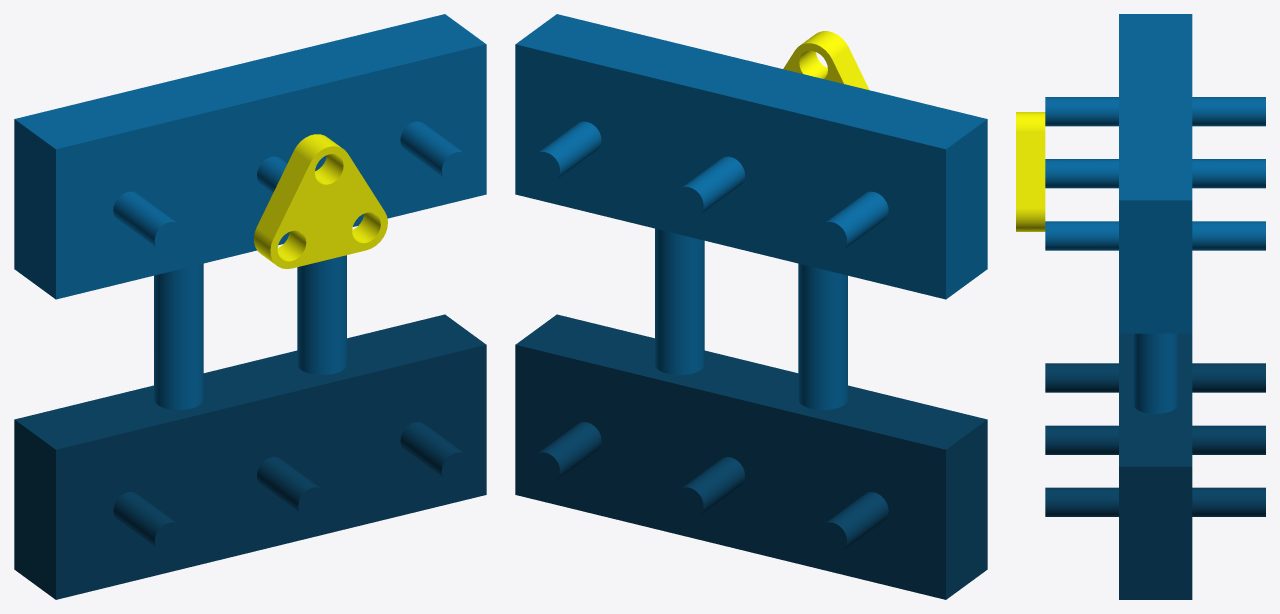
File: spring-blocks v4.glb
The picture shows the model from 3 angles, left to right: view 1: azimuth 30°, elevation 25°; view 2: azimuth 150°, elevation 25°; view 3: azimuth 270°, elevation 25°; orthographic projection. The views are drawn at different scales.
Visible parts, largest first — view 1: Body12, Body11, Body16; view 2: Body12, Body11, Body16; view 3: Body12, Body11, Body16.
Part boxes in pixels (x1=…): Body12: x1=14, y1=14, x2=486, y2=409; Body11: x1=14, y1=314, x2=486, y2=599; Body16: x1=254, y1=134, x2=387, y2=268; Body12: x1=515, y1=14, x2=987, y2=409; Body11: x1=515, y1=314, x2=987, y2=599; Body16: x1=783, y1=31, x2=869, y2=90; Body12: x1=1045, y1=14, x2=1265, y2=413; Body11: x1=1045, y1=333, x2=1265, y2=599; Body16: x1=1016, y1=112, x2=1045, y2=231.
Size of the model in its own units: 0.15 by 0.15 by 0.085.
